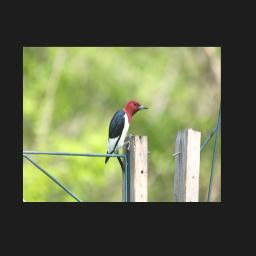Woodpecker: (104, 100, 148, 164)
